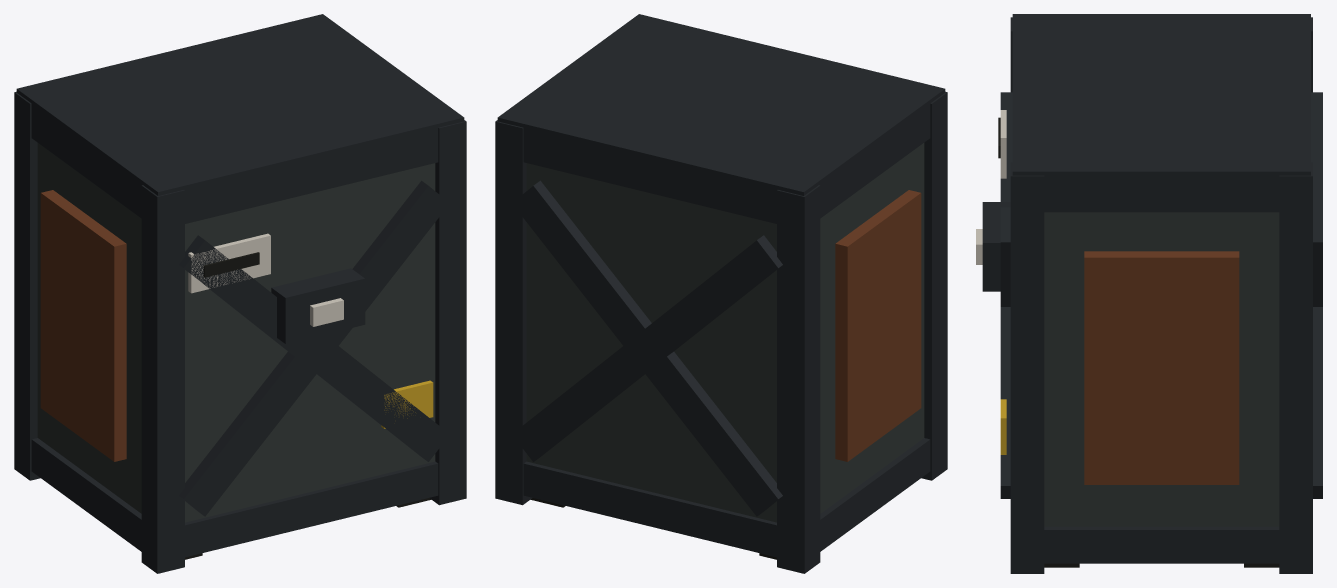
File: crate.glb
The picture shows the model from 3 angles, left to right: view 1: azimuth 30°, elevation 25°; view 2: azimuth 150°, elevation 25°; view 3: azimuth 270°, elevation 25°; orthographic projection. The views are drawn at different scales.
Parts seen in each view (by area): view 1: crate; view 2: crate; view 3: crate.
Boxes of the visible parts, <box> form: crate: <box>14,14,466,573</box>; crate: <box>495,14,947,573</box>; crate: <box>976,14,1322,573</box>.
Bounding box in the file's own units: 0.532 × 0.6 × 0.465.
